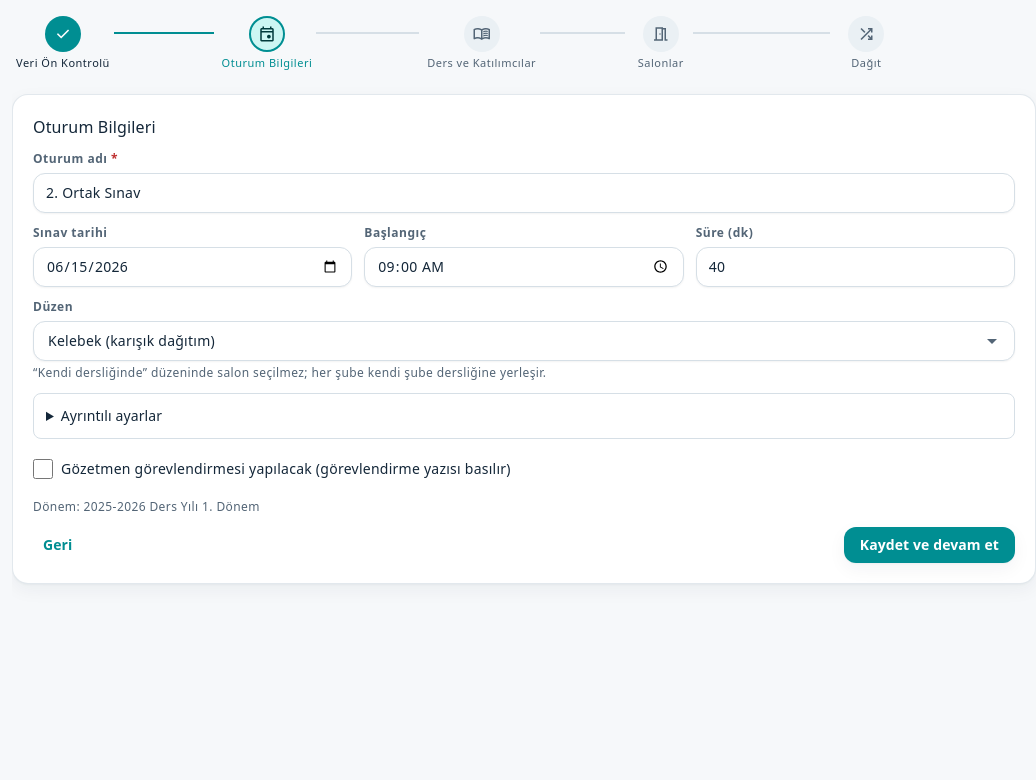
SinavSihirbazi — adım geçişleri › Adım 1 kaydedilince update çağrılır ve Adım 2'ye geçilir
The width and height of the screenshot is (1036, 780).
What coordinates should you click on to do the following:
click the button "Kaydet ve devam et"
I would click on:
 (929, 545)
Its box is [844,527,1015,563].
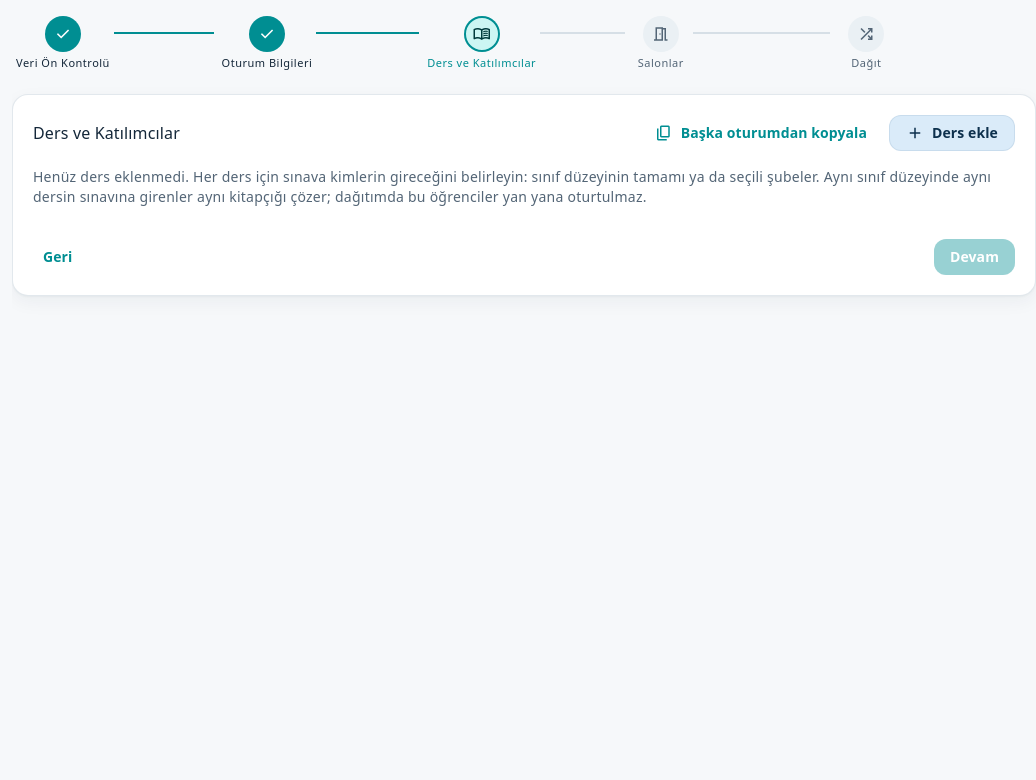
Expected: the button "Devam" is disabled, [934,239,1015,275]
Now the heading "Ders ve Katılımcılar" is shown, box [33,121,180,145]
